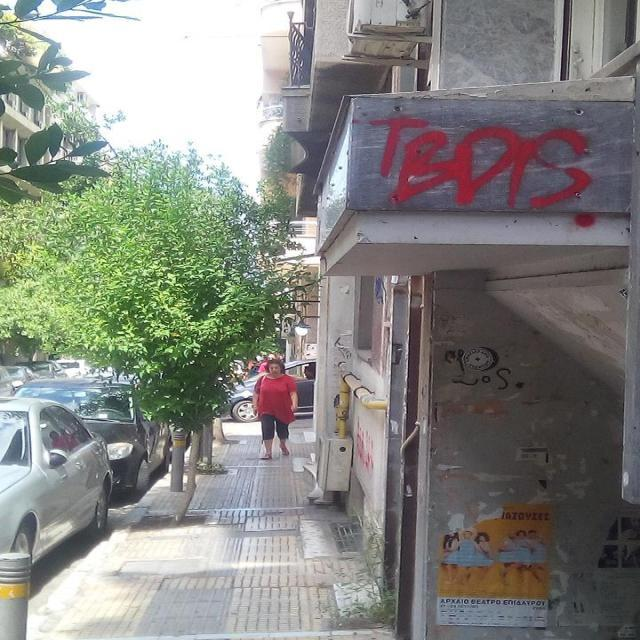nonspitting: (374, 115, 599, 228)
